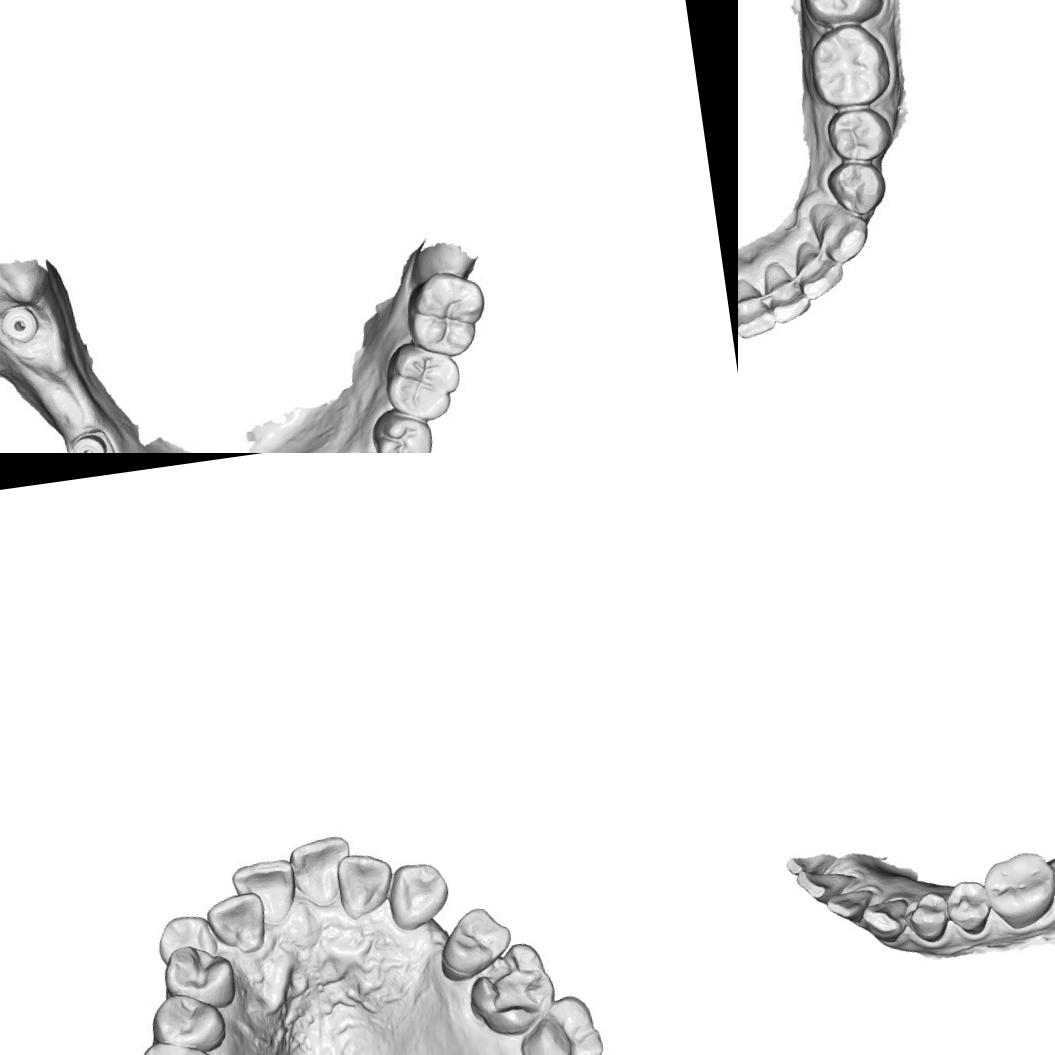canine: (802, 190, 878, 272), (382, 856, 455, 933), (152, 910, 222, 972), (860, 892, 914, 946)
implant: (0, 296, 47, 353), (63, 421, 119, 453)
incisor: (286, 833, 357, 911), (229, 857, 303, 931), (204, 889, 272, 960), (333, 849, 398, 922), (788, 232, 846, 310), (758, 252, 810, 329), (792, 864, 858, 906), (738, 272, 776, 341), (823, 886, 879, 922), (785, 850, 836, 876)
inlay: (474, 943, 547, 1024)
molar: (400, 266, 491, 361), (380, 339, 462, 425), (807, 19, 888, 105), (977, 846, 1055, 934), (512, 990, 609, 1055), (795, 0, 885, 29), (133, 1033, 234, 1055)
premolar: (432, 900, 519, 984), (158, 938, 240, 1016), (146, 987, 230, 1055), (824, 153, 892, 223), (823, 102, 891, 166), (942, 876, 996, 940), (900, 887, 957, 946), (370, 404, 436, 453)
